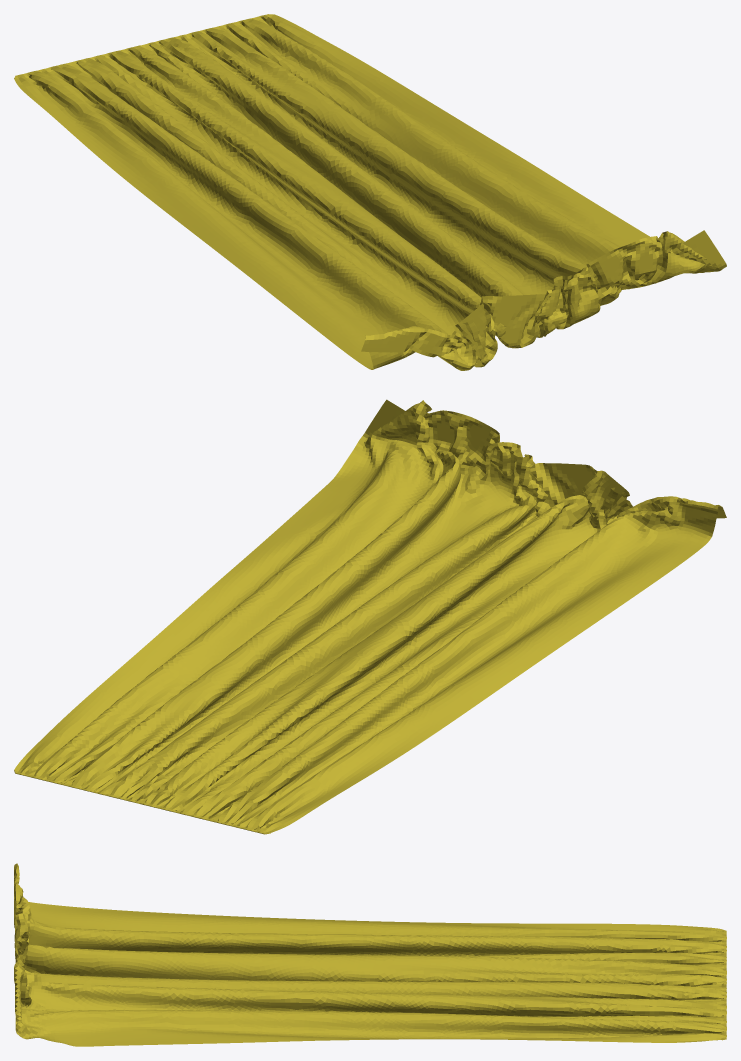
File: curtain_single.fbx
3 renders of one model, top to bottom at view 1: azimuth 30°, elevation 25°; view 2: azimuth 150°, elevation 25°; view 3: azimuth 270°, elevation 25°, orthographic. The views are drawn at different scales.
Visible parts, largest first — view 1: curtain; view 2: curtain; view 3: curtain.
Boxes of the visible parts, <box> form: curtain: <box>14,14,726,370</box>; curtain: <box>14,399,726,834</box>; curtain: <box>14,863,726,1046</box>.
Size of the model in its own units: 1147 by 304 by 2192.
